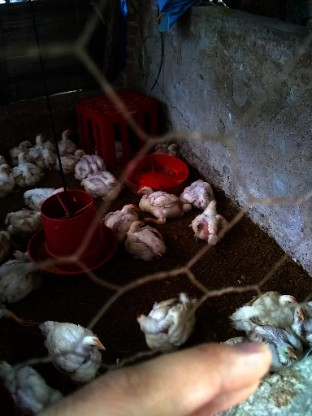Pollos: (39, 303, 107, 375), (134, 286, 199, 355), (228, 316, 301, 371), (0, 238, 49, 318), (0, 360, 75, 407), (130, 181, 189, 224), (125, 222, 180, 261), (239, 289, 299, 321), (194, 202, 231, 248), (4, 206, 47, 241), (76, 173, 128, 201), (180, 166, 216, 206), (10, 151, 45, 188), (23, 183, 72, 209), (76, 149, 113, 179), (148, 129, 183, 160), (30, 128, 57, 166), (289, 294, 312, 336), (105, 201, 139, 228), (57, 124, 81, 154), (0, 159, 14, 196), (59, 152, 83, 170), (4, 137, 33, 150)
